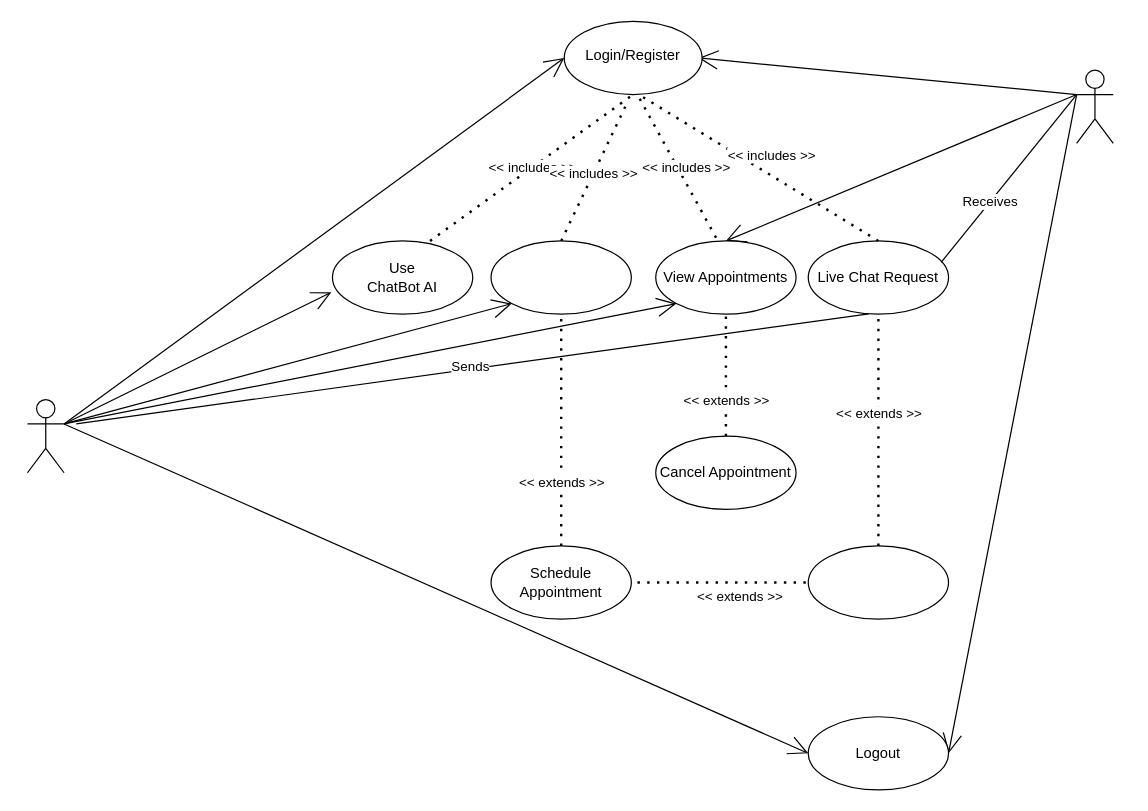
This 1148x811 diagram has some shape labels left out. The centre of each missing label's shape, as x and y in pixels:
"Employee" belongs at (1094,106).
"Live Chat" belongs at (878,582).
"Search Employees" belongs at (560,277).
"Student" belongs at (45,435).
